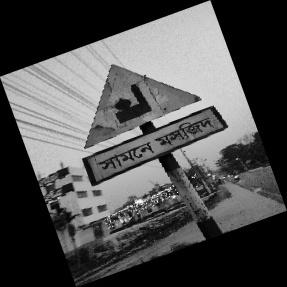Mosque in front: (83, 64, 230, 179)
